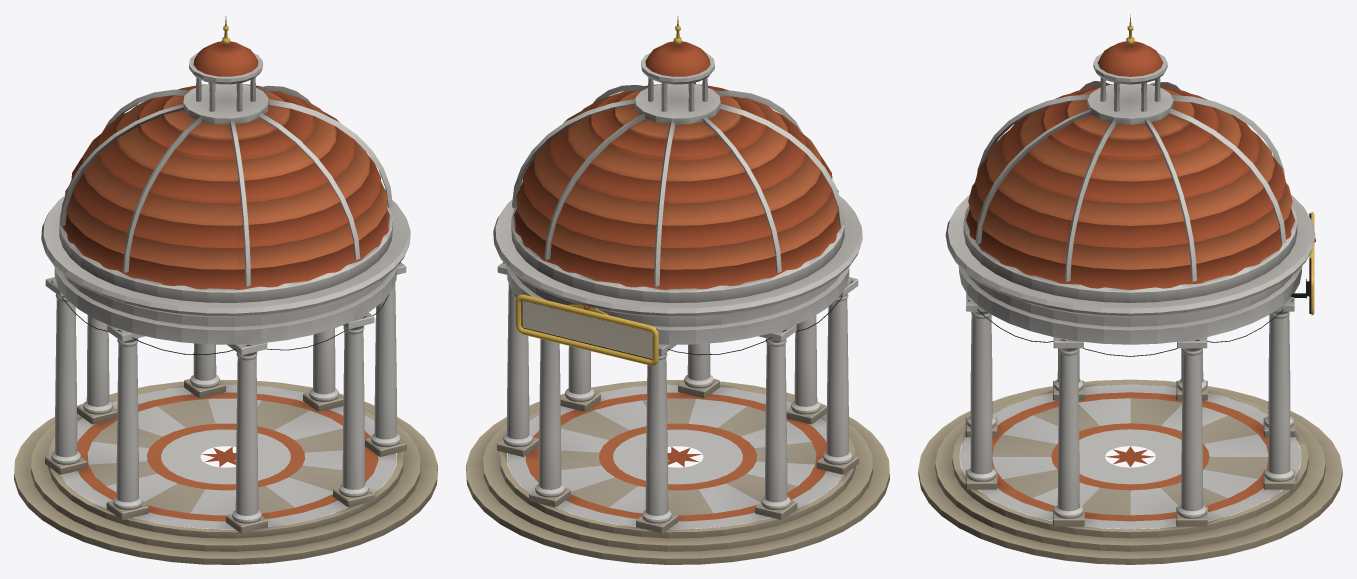
The model's file is pav_rotunda.glb.
3 views of the same model, side by side, from view 1: azimuth 30°, elevation 25°; view 2: azimuth 150°, elevation 25°; view 3: azimuth 270°, elevation 25° (orthographic).
Visible parts, largest first — view 1: static_rotunda; view 2: static_rotunda; view 3: static_rotunda.
Part boxes in pixels (box(x1,y1,x2,y2)): static_rotunda: box(14, 16, 437, 564); static_rotunda: box(466, 16, 889, 564); static_rotunda: box(918, 14, 1342, 564).
Bounding box in the file's own units: 7.5 × 9 × 7.5.
